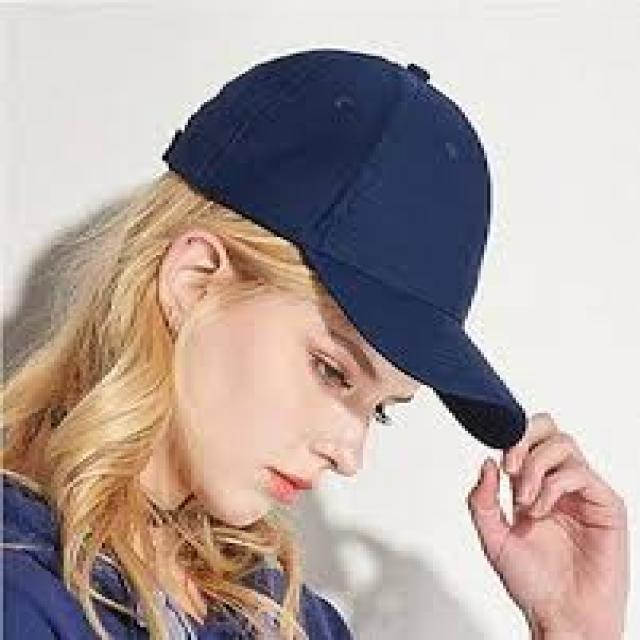cap: (144, 31, 627, 468)
